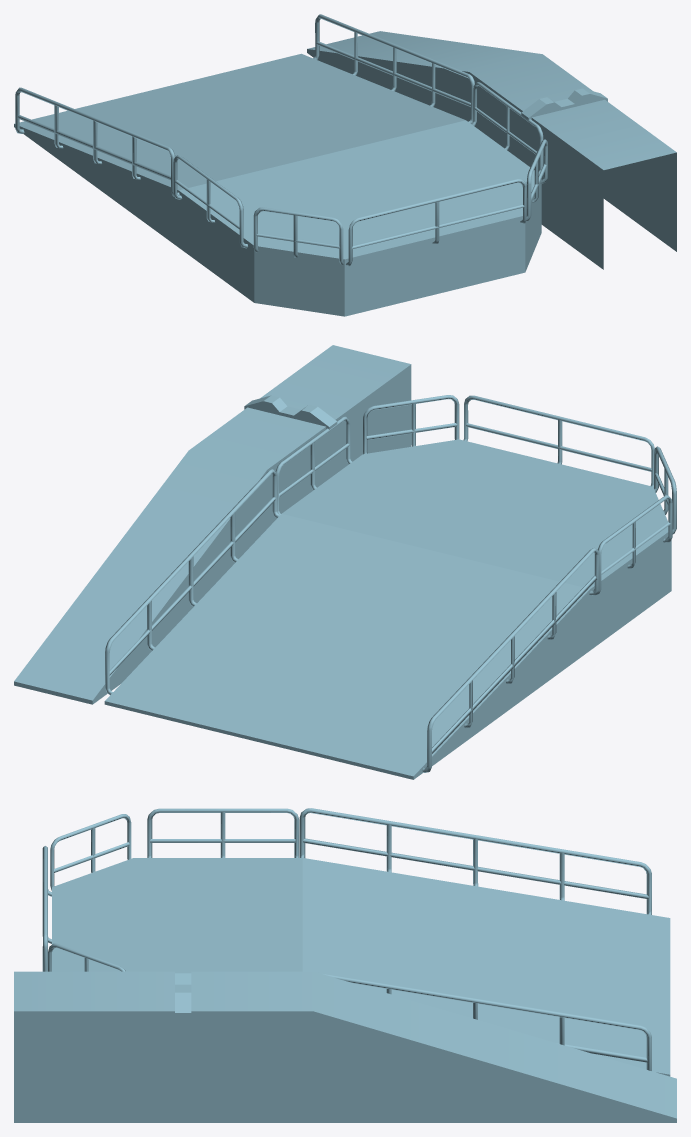
Rendered from BC_Collider_JieTi_1.FBX.
3 renders of one model, top to bottom at view 1: azimuth 30°, elevation 25°; view 2: azimuth 150°, elevation 25°; view 3: azimuth 270°, elevation 25°, orthographic. The views are drawn at different scales.
Parts seen in each view (by area): view 1: BC_Collider_JieTi_1; view 2: BC_Collider_JieTi_1; view 3: BC_Collider_JieTi_1.
Part boxes in pixels (<box>): BC_Collider_JieTi_1: <box>14,14,676,316</box>; BC_Collider_JieTi_1: <box>14,345,676,779</box>; BC_Collider_JieTi_1: <box>14,808,676,1122</box>.
Size of the model in its own units: 10.86 by 2.98 by 14.68.
